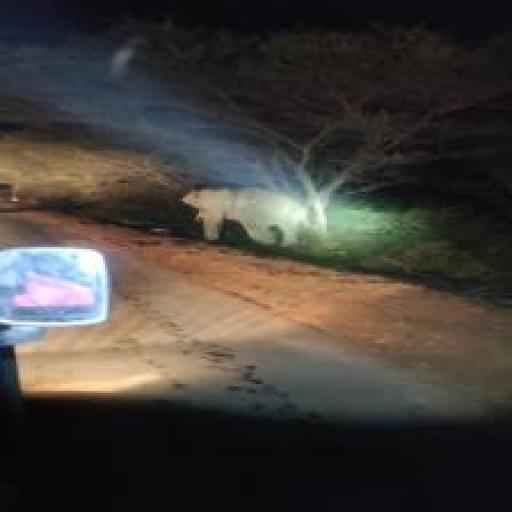Elephant: (181, 187, 305, 247)
